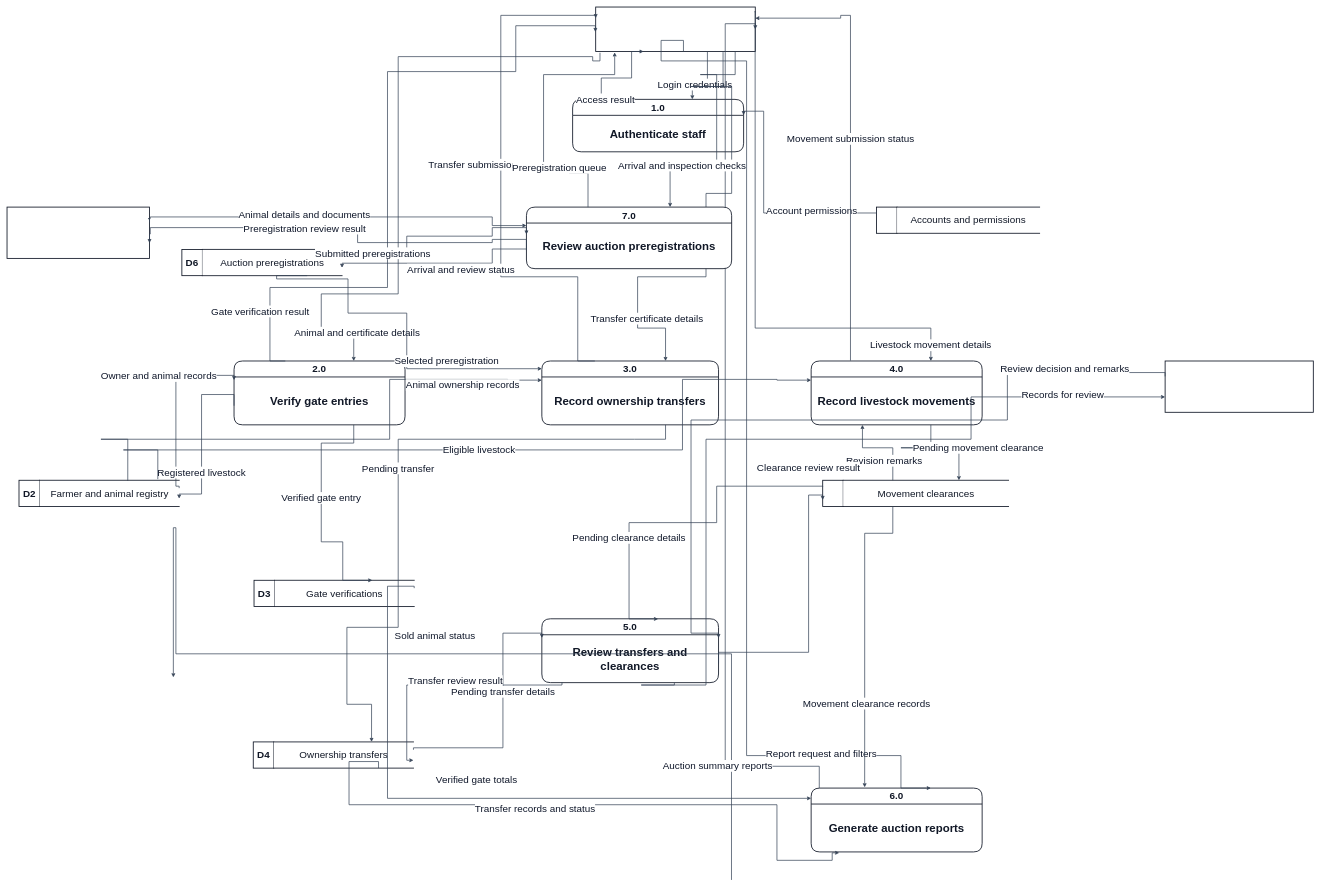
Some shapes in this 1320 by 890 pixel diagram are drawn without their labels. The centre of each missing label's shape, as x and y in pixels:
"AUCTION OFFICE STAFF" belongs at point 675,29.
"D1" belongs at point 886,220.
"D5" belongs at point 832,493.
"FARMER" belongs at point 78,232.
"MAO / ADMIN" belongs at point 1239,386.
